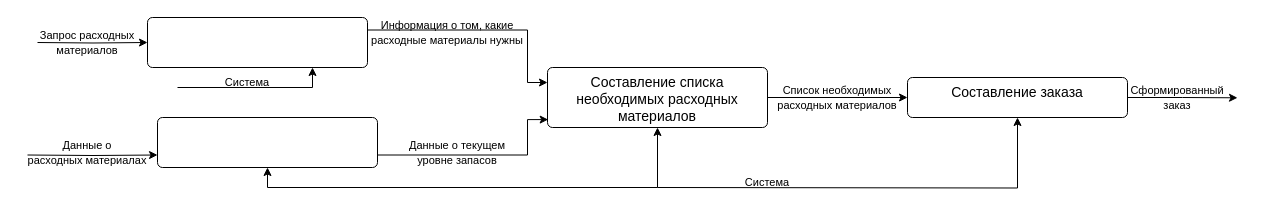
Some shapes in this 1274 by 215 pixel diagram are drawn without their labels. Here are the shapes that lost their labels. From the top down, the box of each, then its label:
(146, 16, 368, 68): Обработка запроса расходных материалов
(156, 116, 378, 168): Оценка текущего уровня запасов
